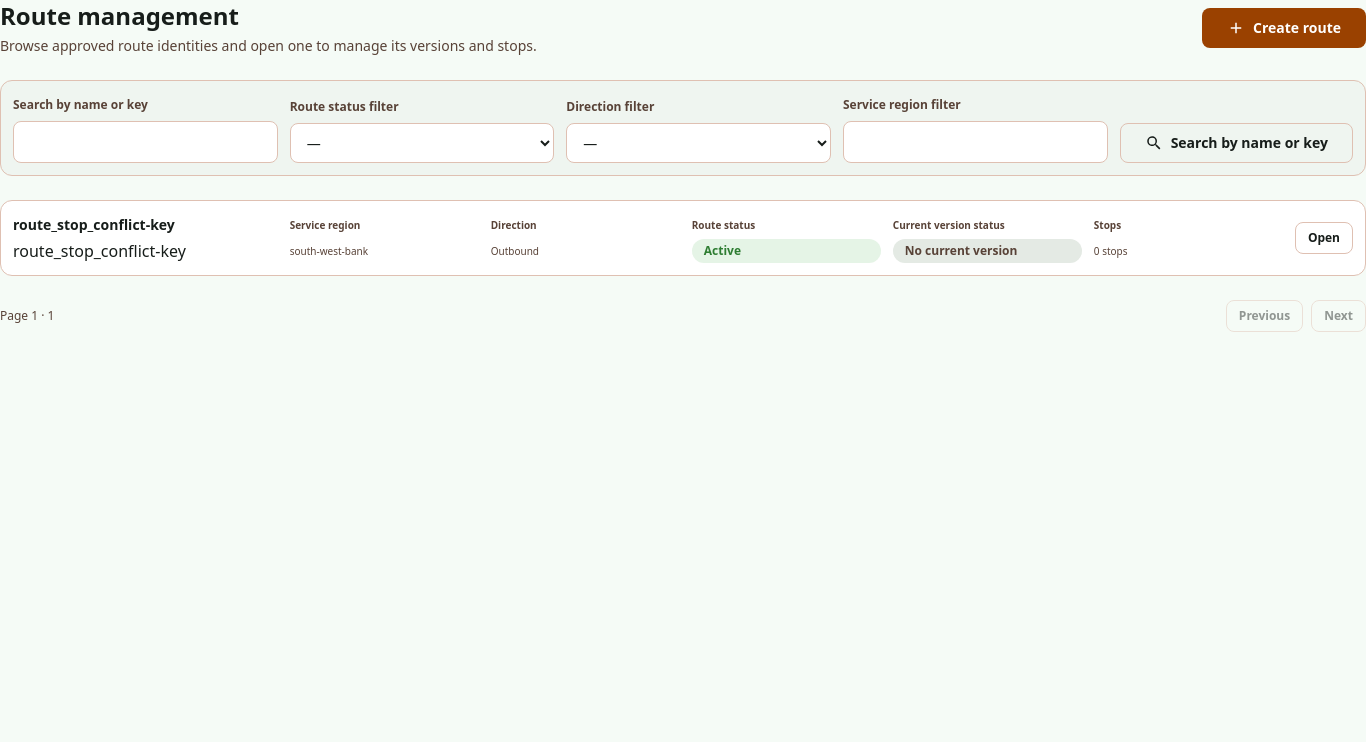
Test: admin route management › keeps the Stops tab and selected draft while reconciling authoritative order after one 409 reload
Click the button "Open".
click(1324, 238)  # box [1295,222,1353,254]
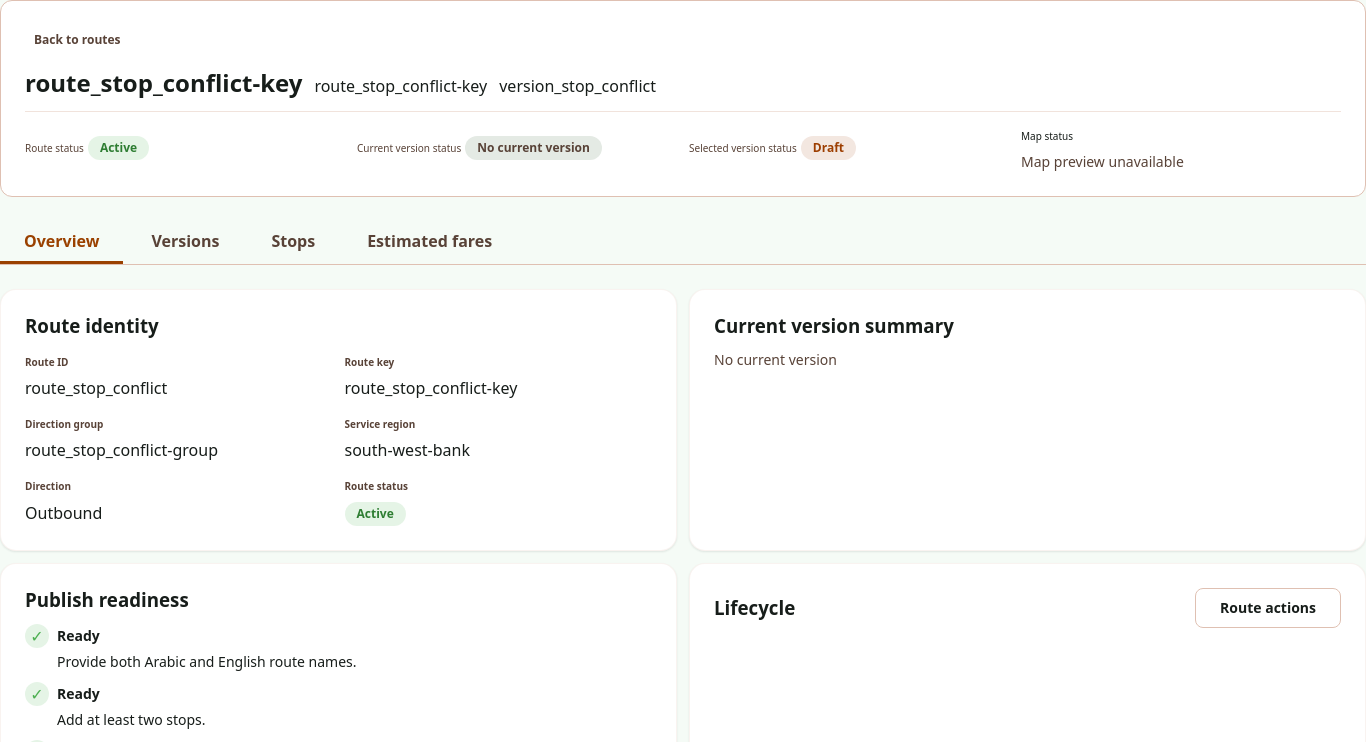
Click the tab "Stops".
click(293, 242)  # box [247,221,339,264]
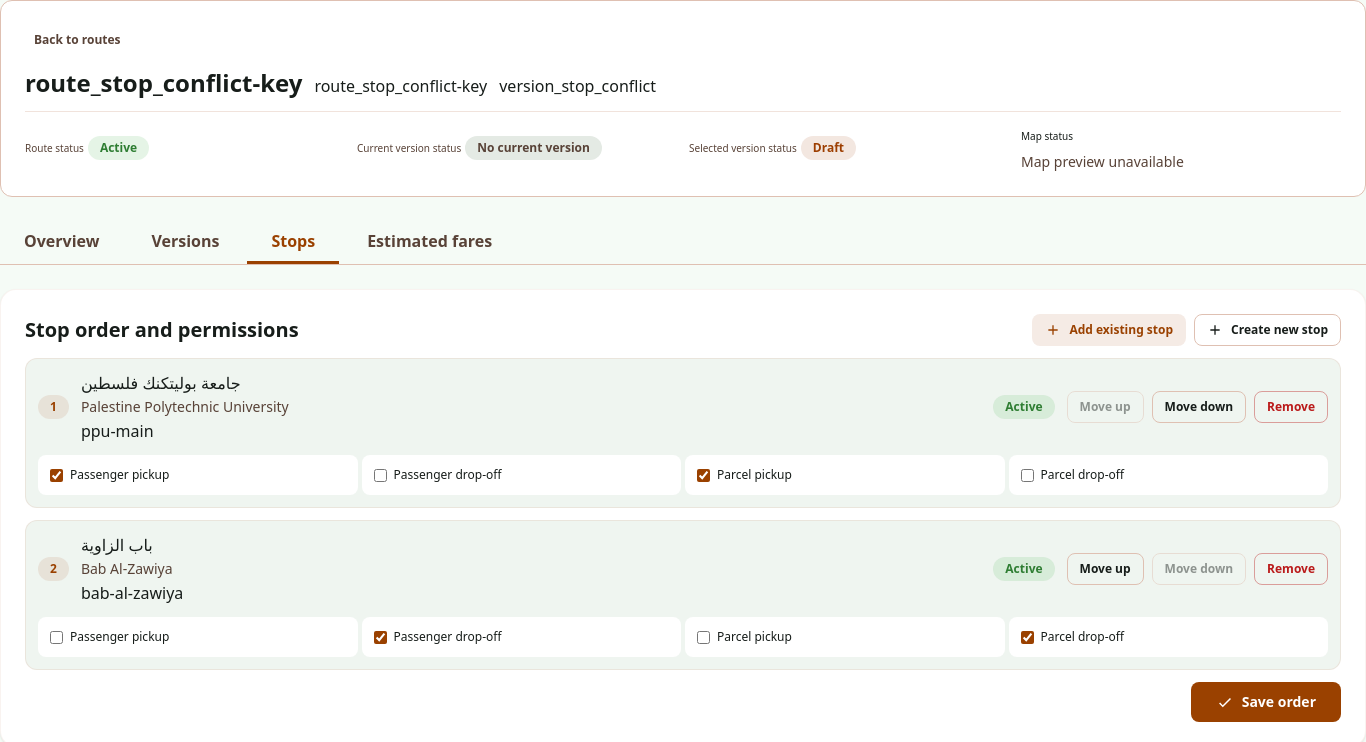
Click the button "Save order".
click(1266, 702)  # box [1191,682,1341,722]
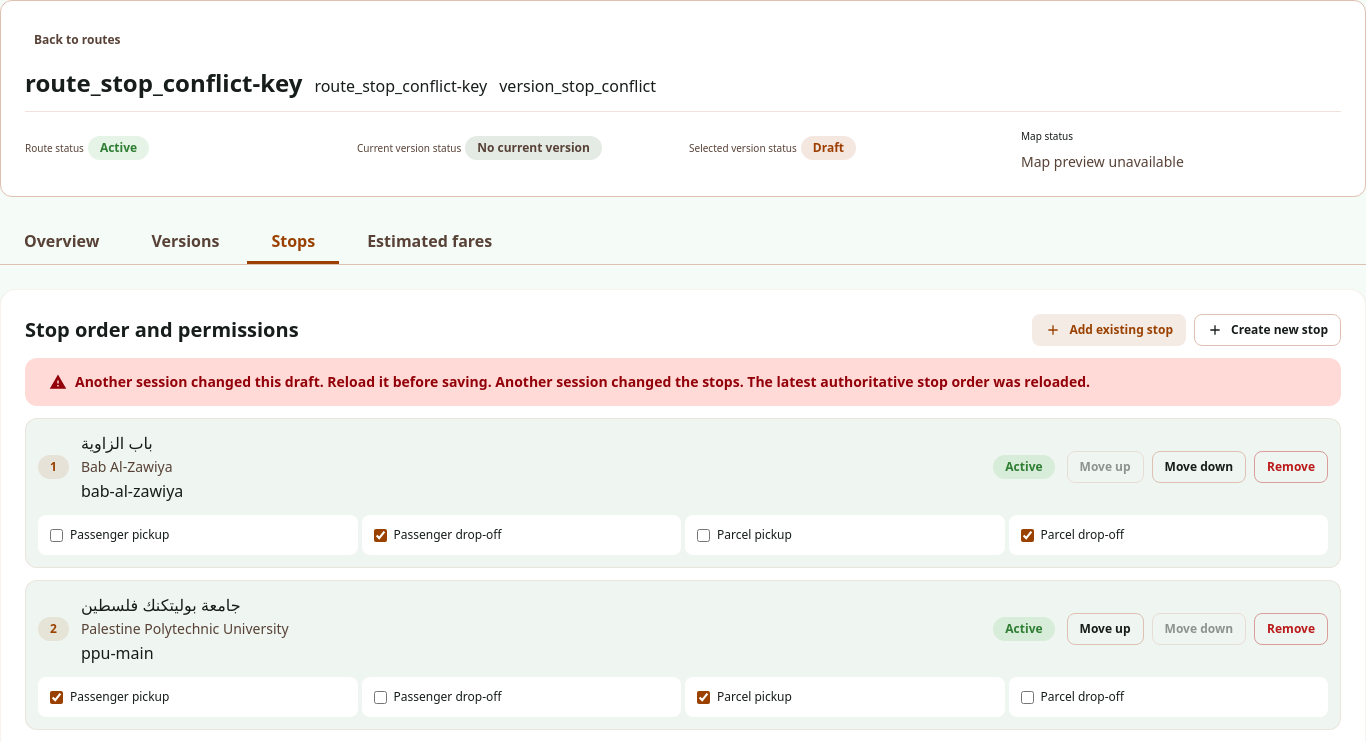
Expected: the element with class "route-workspace__identity" shows "version_stop_conflict", [499,75,656,97]
Expected: the message with class "notice--error" shows "The latest authoritative stop order was reloaded", [75,372,1090,391]
